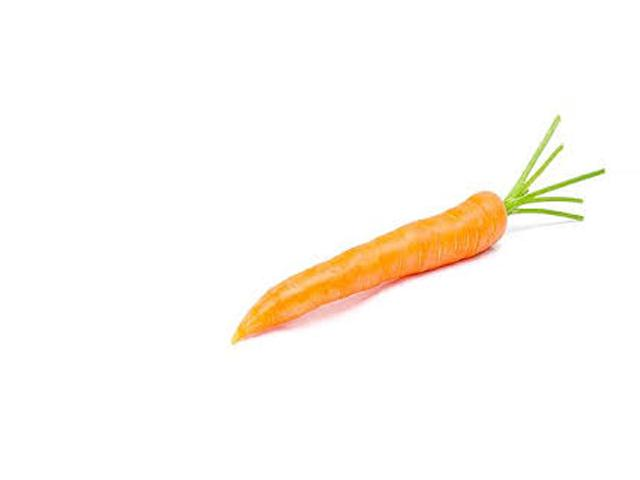carrot: (223, 168, 539, 345)
